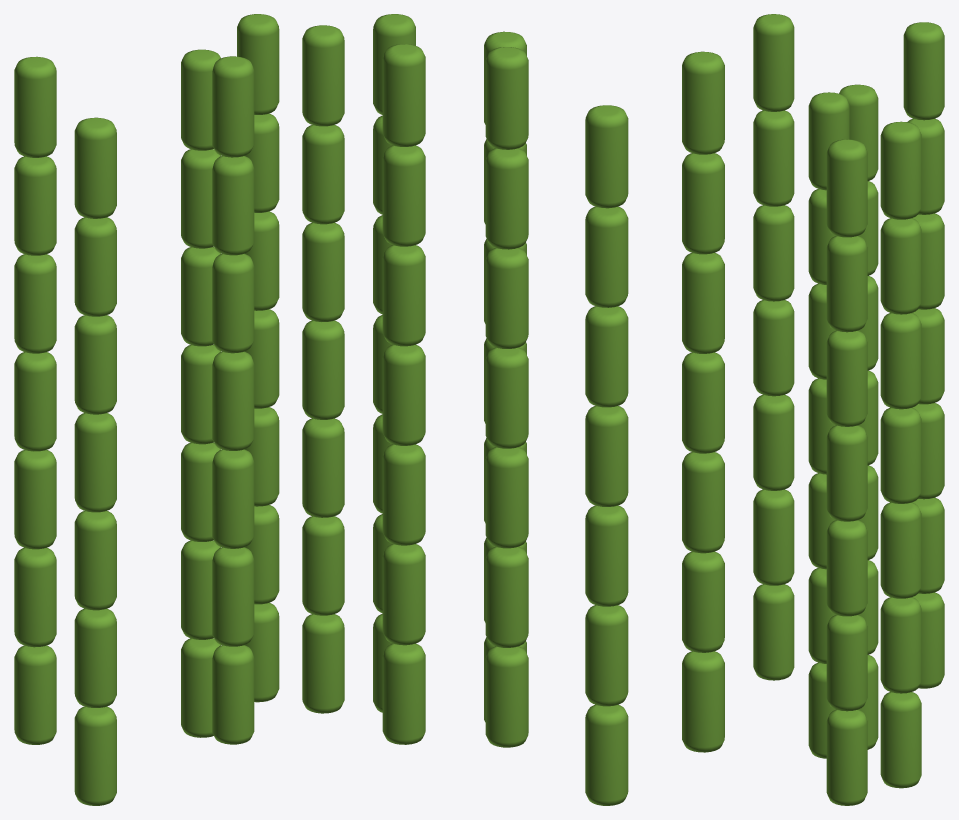
File: JPN-18.glb
3 views of the same model, side by side, from view 1: azimuth 30°, elevation 25°; view 2: azimuth 150°, elevation 25°; view 3: azimuth 270°, elevation 25° (orthographic). The views are drawn at different scales.
Parts seen in each view (by area): view 1: bamboo segment.013, bamboo segment.041, bamboo segment.020, bamboo segment.006, bamboo segment.039, bamboo segment.007, bamboo segment.008, bamboo segment.038, bamboo segment.019, bamboo segment.012, bamboo segment.018, bamboo segment.037 (+30 smaller); view 2: bamboo segment.041, bamboo segment.034, bamboo segment.027, bamboo segment.025, bamboo segment.036, bamboo segment.023, bamboo segment.028, bamboo segment.030, bamboo segment.039, bamboo segment.031, bamboo segment.026, bamboo segment.033 (+24 smaller); view 3: bamboo segment.013, bamboo segment.027, bamboo segment.041, bamboo segment.020, bamboo segment.018, bamboo segment.014, bamboo segment.009, bamboo segment.022, bamboo segment.026, bamboo segment.010, bamboo segment.019, bamboo segment.023 (+30 smaller).
Part boxes in pixels (<box>): bamboo segment.013: <box>302,25,344,126</box>; bamboo segment.041: <box>14,56,56,157</box>; bamboo segment.020: <box>74,117,116,218</box>; bamboo segment.006: <box>212,56,254,157</box>; bamboo segment.039: <box>14,254,56,353</box>; bamboo segment.007: <box>302,614,344,713</box>; bamboo segment.008: <box>302,516,344,615</box>; bamboo segment.038: <box>14,352,56,451</box>; bamboo segment.019: <box>74,217,116,316</box>; bamboo segment.012: <box>302,125,344,224</box>; bamboo segment.018: <box>74,315,116,414</box>; bamboo segment.037: <box>14,450,56,549</box>; bamboo segment.041: <box>585,105,628,208</box>; bamboo segment.034: <box>485,47,528,149</box>; bamboo segment.027: <box>382,44,425,146</box>; bamboo segment.025: <box>382,245,425,346</box>; bamboo segment.036: <box>585,605,628,706</box>; bamboo segment.023: <box>382,444,425,545</box>; bamboo segment.028: <box>485,646,528,747</box>; bamboo segment.030: <box>485,447,528,548</box>; bamboo segment.039: <box>585,306,628,407</box>; bamboo segment.031: <box>485,347,528,448</box>; bamboo segment.026: <box>382,145,425,246</box>; bamboo segment.033: <box>485,148,528,249</box>; bamboo segment.013: <box>826,139,867,237</box>; bamboo segment.027: <box>880,121,921,219</box>; bamboo segment.041: <box>903,22,944,120</box>; bamboo segment.020: <box>753,14,794,111</box>; bamboo segment.018: <box>753,205,794,301</box>; bamboo segment.014: <box>753,584,794,680</box>; bamboo segment.009: <box>826,520,867,616</box>; bamboo segment.022: <box>880,597,921,693</box>; bamboo segment.026: <box>880,218,921,314</box>; bamboo segment.010: <box>826,425,867,521</box>; bamboo segment.019: <box>753,110,794,206</box>; bamboo segment.023: <box>880,502,921,598</box>.
Bounding box in the file's own units: 0.9049 × 1.94 × 0.512.
